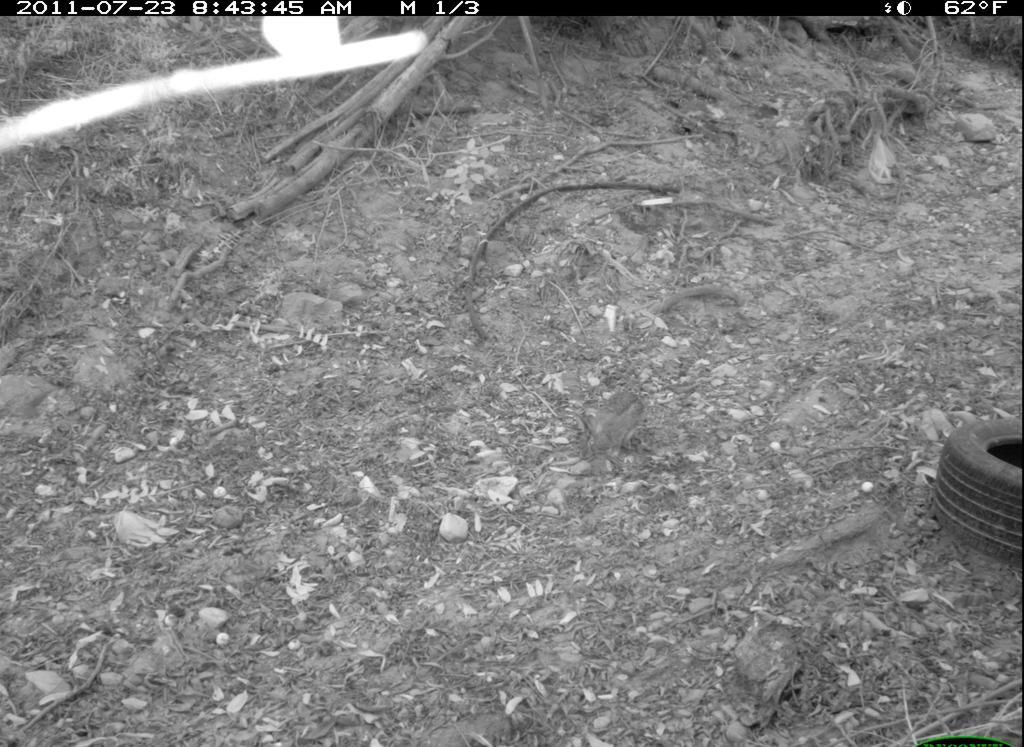rabbit: (570, 377, 670, 459)
